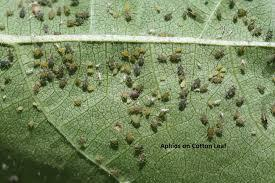insect: (126, 108, 143, 128), (202, 124, 218, 144), (196, 105, 211, 126), (63, 15, 86, 28), (0, 51, 16, 68), (209, 46, 226, 62), (63, 60, 79, 77), (146, 115, 162, 131), (135, 153, 150, 170), (154, 50, 169, 66), (206, 96, 226, 108), (258, 108, 270, 128), (127, 86, 142, 102), (212, 6, 224, 25), (107, 136, 122, 151), (255, 81, 269, 97), (70, 94, 83, 111), (124, 129, 136, 147), (169, 53, 185, 66), (191, 75, 204, 91), (131, 60, 142, 78), (234, 43, 248, 57), (176, 98, 188, 114), (162, 10, 175, 24), (74, 9, 94, 18), (32, 45, 44, 60), (236, 114, 248, 129), (73, 75, 86, 88), (208, 74, 222, 86), (121, 10, 133, 23), (235, 6, 248, 18), (234, 93, 244, 108), (175, 65, 188, 76), (120, 47, 131, 60), (47, 6, 56, 21), (120, 91, 129, 106), (39, 57, 49, 70), (194, 60, 204, 73), (81, 58, 97, 66), (84, 83, 98, 92), (18, 5, 26, 20), (38, 78, 50, 88), (47, 56, 57, 68), (58, 77, 67, 90), (247, 19, 256, 32), (63, 52, 77, 60), (30, 85, 40, 96), (226, 0, 237, 10), (85, 66, 96, 76), (55, 5, 63, 18), (178, 79, 187, 90), (220, 66, 230, 75), (34, 79, 41, 90), (231, 14, 239, 23), (112, 66, 119, 76)
